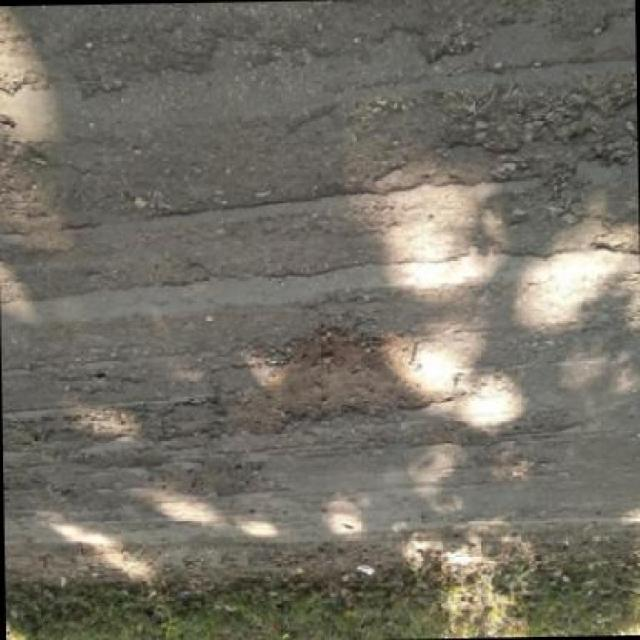pothole1: (190, 327, 468, 436)
